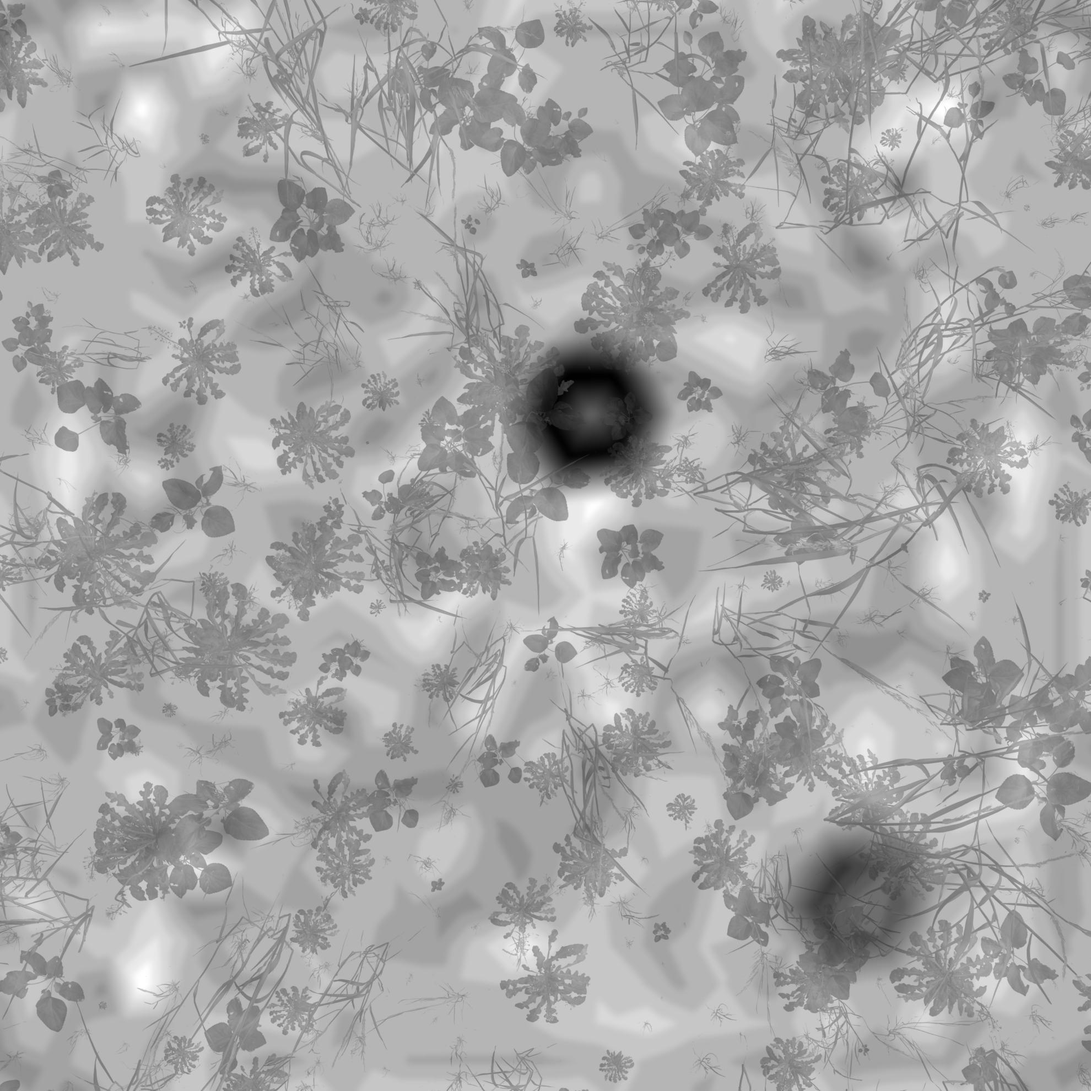landmine: (511, 333, 658, 491), (795, 835, 930, 967)
